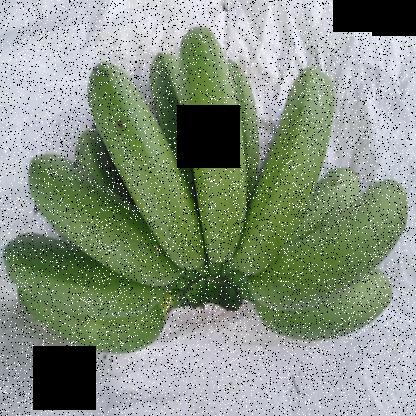freshunripe: (240, 165, 414, 310), (228, 60, 338, 270), (20, 147, 168, 287), (175, 21, 254, 270), (0, 232, 159, 322), (233, 287, 400, 339)
unripe: (81, 56, 214, 281)
